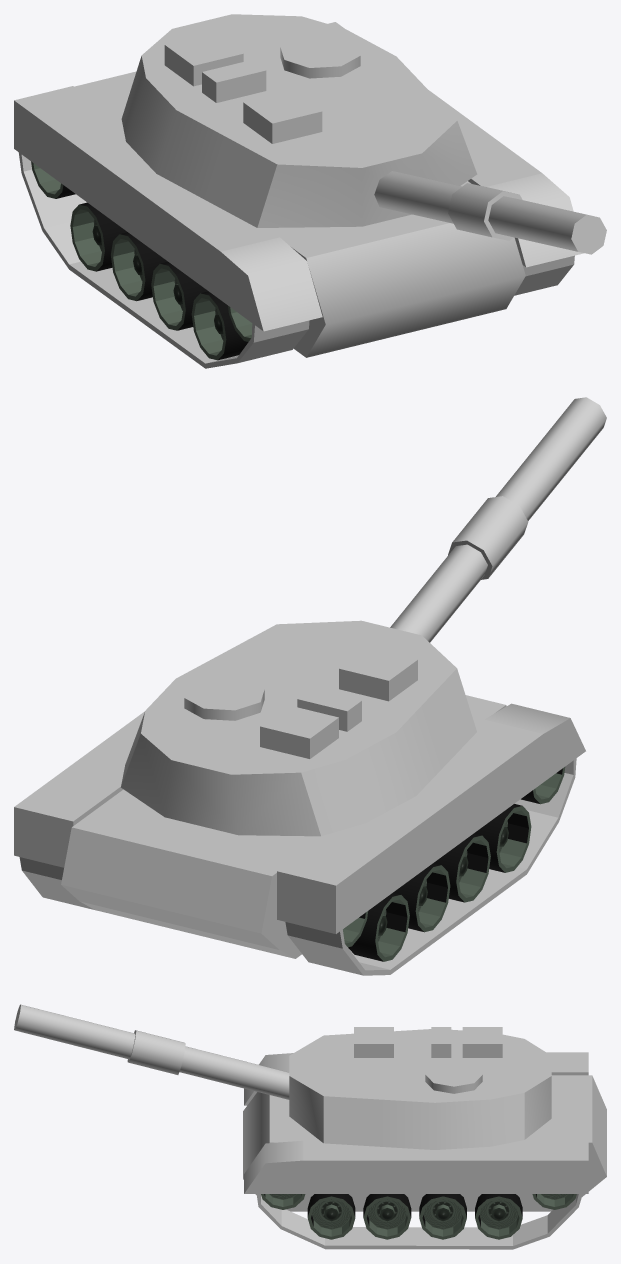
Rendered from Tank.FBX.
3 renders of one model, top to bottom at view 1: azimuth 30°, elevation 25°; view 2: azimuth 150°, elevation 25°; view 3: azimuth 270°, elevation 25°, orthographic. The views are drawn at different scales.
Visible parts, largest first — view 1: Box006, Box001, Box010, Cylinder022, Cylinder025, Cylinder023, Cylinder024, Box003, Cylinder026; view 2: Box006, Box001, Box010, Cylinder025, Cylinder022, Cylinder024, Cylinder023, Box003; view 3: Box006, Box001, Box003, Cylinder019, Cylinder018, Cylinder016, Cylinder017, Cylinder006, Cylinder020.
Boxes of the visible parts, x1,y1,x2,y2 form: Box006: [121, 14, 606, 254]; Box001: [14, 22, 583, 357]; Box010: [18, 152, 309, 368]; Cylinder022: [191, 291, 248, 360]; Cylinder025: [70, 202, 127, 271]; Cylinder023: [151, 262, 207, 330]; Cylinder024: [111, 232, 167, 301]; Box003: [514, 255, 574, 295]; Cylinder026: [31, 161, 75, 198]; Box006: [121, 397, 606, 836]; Box001: [14, 695, 585, 958]; Box010: [285, 758, 576, 975]; Cylinder025: [348, 893, 409, 961]; Cylinder022: [474, 804, 531, 872]; Cylinder024: [393, 863, 450, 932]; Cylinder023: [434, 833, 490, 902]; Box003: [19, 857, 94, 909]; Box006: [14, 1004, 551, 1149]; Box001: [243, 1052, 606, 1211]; Box003: [256, 1194, 582, 1249]; Cylinder019: [307, 1194, 355, 1239]; Cylinder018: [363, 1194, 411, 1239]; Cylinder016: [475, 1194, 522, 1239]; Cylinder017: [419, 1194, 466, 1239]; Cylinder006: [532, 1194, 576, 1209]; Cylinder020: [261, 1194, 305, 1209].
Size of the model in its own units: 161 by 132 by 372.
